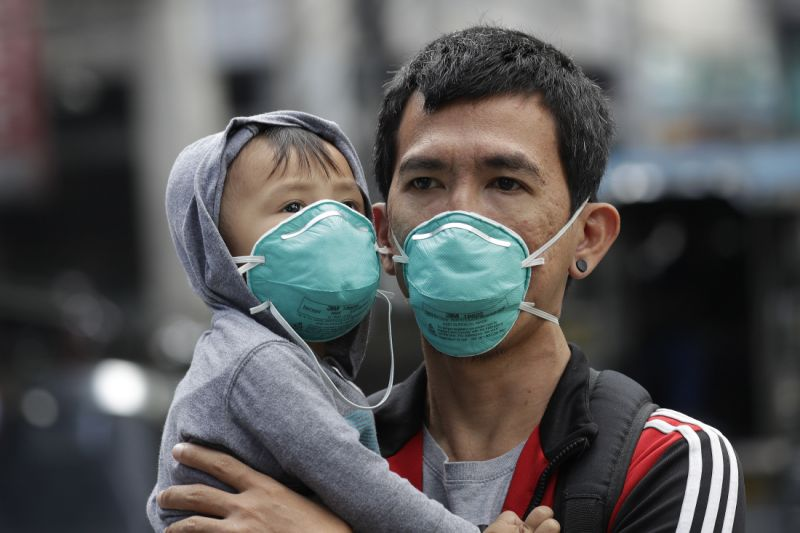n95: (397, 203, 543, 359), (245, 199, 386, 344)
